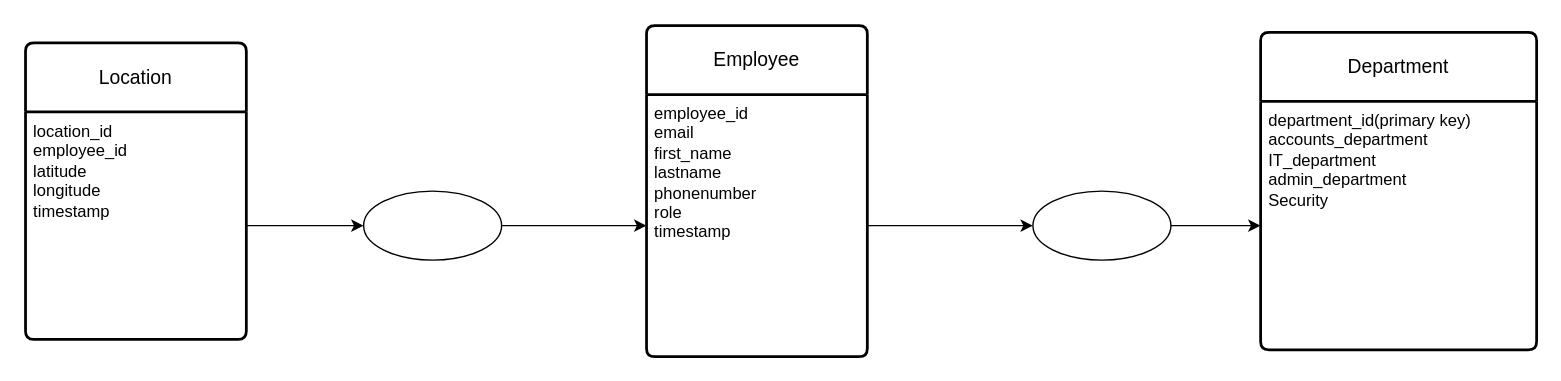
The diagram is 1561 pixels wide and 381 high, and some of its shapes have lost their labels. Each missing label, with the centre of its shape:
"many to many" goes at pixel 432 225.
"works in" goes at pixel 1101 225.
